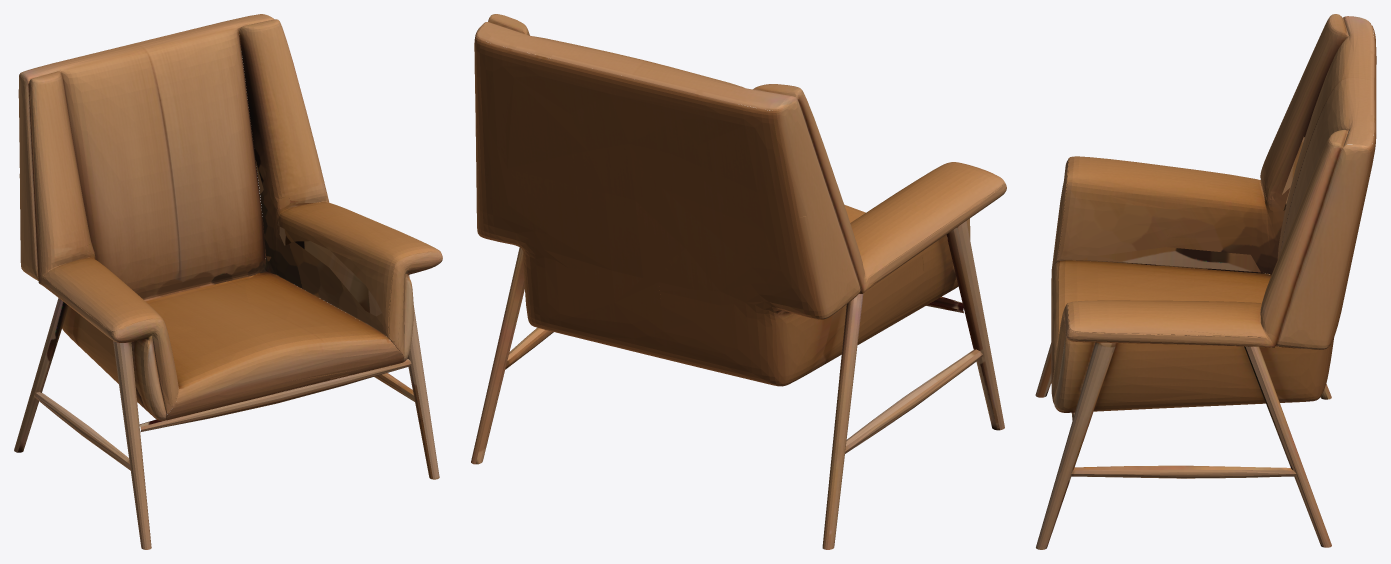
Rendered from edited_mesh.glb.
The picture shows the model from 3 angles, left to right: view 1: azimuth 30°, elevation 25°; view 2: azimuth 150°, elevation 25°; view 3: azimuth 270°, elevation 25°; orthographic projection. The views are drawn at different scales.
Visible parts, largest first — view 1: solid_001_wire; view 2: solid_001_wire; view 3: solid_001_wire.
Part boxes in pixels (left/top/right/bottom): solid_001_wire: left=14, top=14, right=442, bottom=549; solid_001_wire: left=471, top=14, right=1006, bottom=549; solid_001_wire: left=1035, top=14, right=1376, bottom=549.
Bounding box in the file's own units: 1.29 × 1.36 × 1.06.
Materials: 1 (1 with a texture image).
